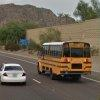Bus: (32, 39, 95, 81)
